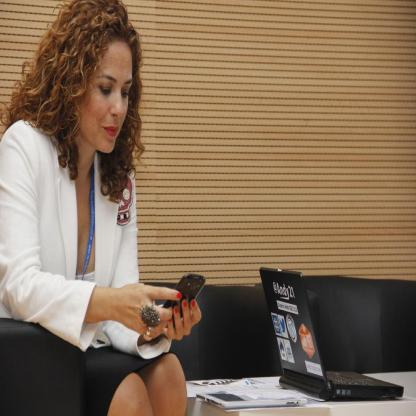board: (259, 266, 404, 402)
